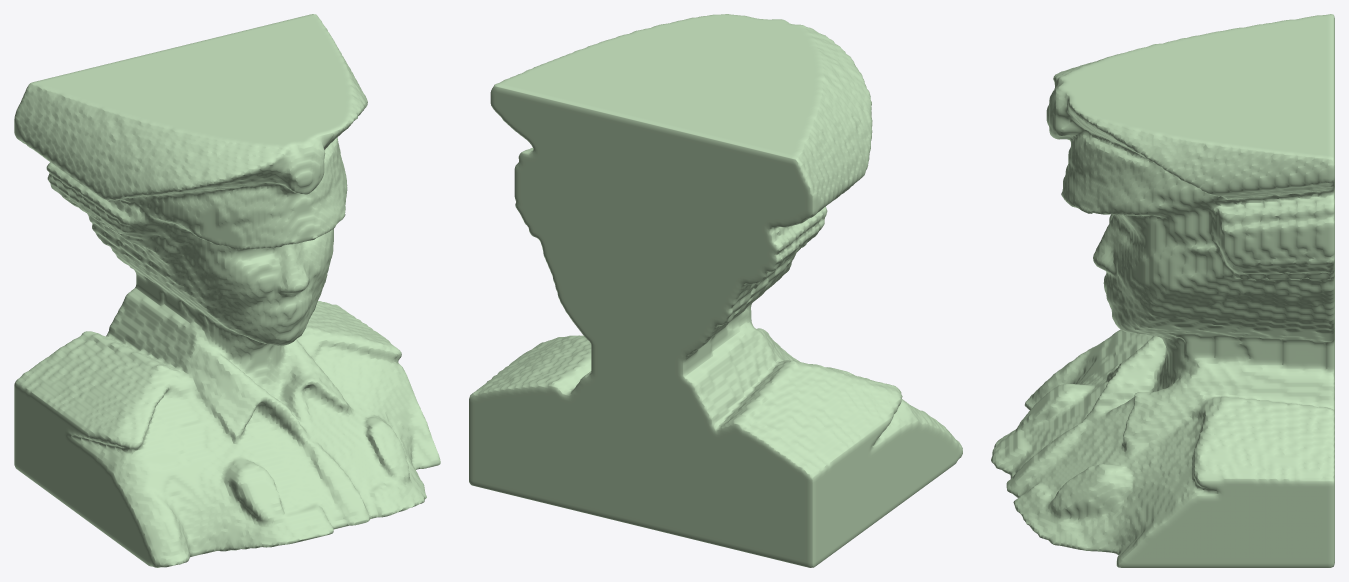
File: hypothesis_depth-lift.glb
3 views of the same model, side by side, from view 1: azimuth 30°, elevation 25°; view 2: azimuth 150°, elevation 25°; view 3: azimuth 270°, elevation 25° (orthographic). The views are drawn at different scales.
Visible parts, largest first — view 1: hypothesis-depth-lift; view 2: hypothesis-depth-lift; view 3: hypothesis-depth-lift.
Boxes of the visible parts, x1,y1,x2,y2 form: hypothesis-depth-lift: (14, 14, 440, 567); hypothesis-depth-lift: (469, 14, 962, 567); hypothesis-depth-lift: (991, 14, 1334, 567).
Size of the model in its own units: 0.9003 by 1.01 by 0.7906.
